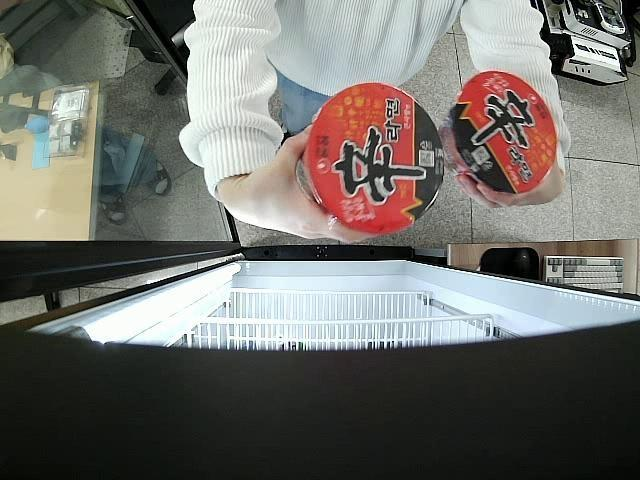01_ShinRamen_L: (303, 82, 444, 235), (440, 70, 558, 197)
